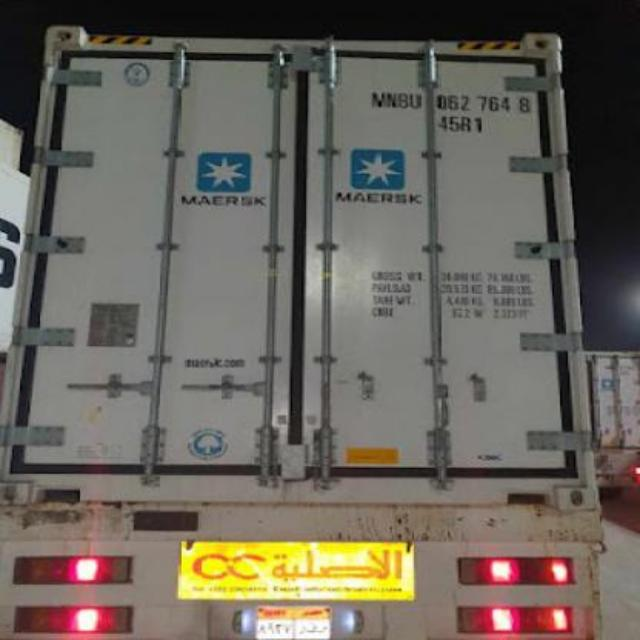0: (436, 92, 448, 112)
2: (458, 94, 472, 115)
4: (500, 96, 512, 114)
6: (447, 92, 459, 112), (488, 95, 499, 114)
7: (476, 93, 488, 113)
8: (515, 94, 533, 114)
B: (398, 90, 408, 112)
M: (371, 89, 387, 109)
N: (386, 89, 396, 109)
U: (409, 90, 423, 112)
